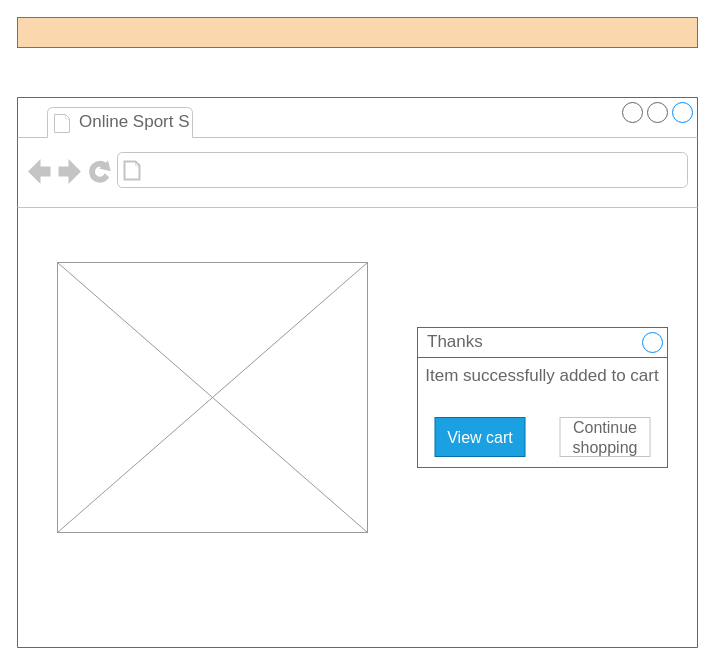
The diagram is 715 pixels wide and 665 high, and some of its shapes have lost their labels. Here are the shapes that lost their labels. From the top down, the centre of each, then its label:
(x=357, y=32): Online Sport Shop🤸‍♀️
(x=272, y=170): http://sw-sport-shop.epizy.com/DeliverableC/addToCart.php
